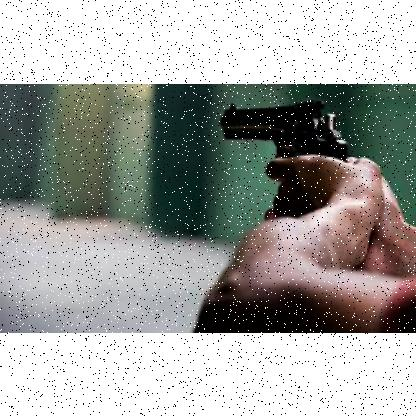gun: (214, 92, 354, 220)
